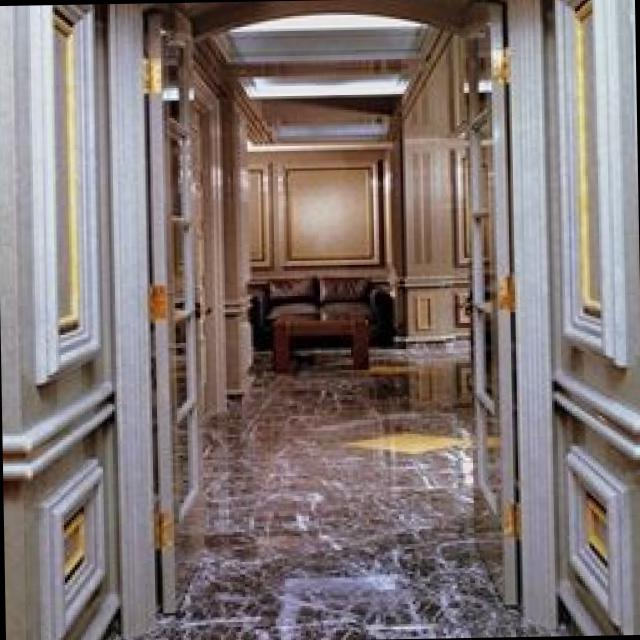sofa bed: (243, 274, 388, 346)
table -X: (271, 319, 363, 368)
